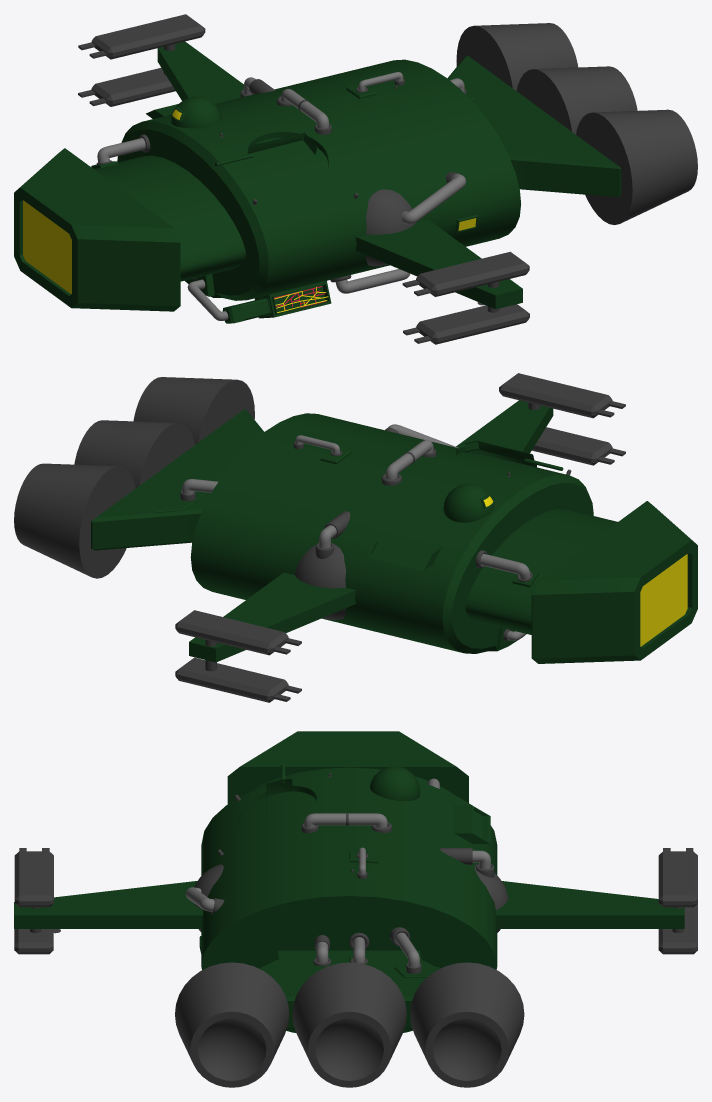
The model's file is NAVE_ESPACIAL.fbx.
3 renders of one model, top to bottom at view 1: azimuth 30°, elevation 25°; view 2: azimuth 150°, elevation 25°; view 3: azimuth 270°, elevation 25°, orthographic.
Parts seen in each view (by area): view 1: CuerpoPrincipal, Motores, Cabina, Canones, Alas, Cilindro.004, Cilindro.005, Cilindro.009, Cilindro.010, Cilindro.011; view 2: CuerpoPrincipal, Motores, Cabina, Canones, Alas, Cilindro.009, Cilindro.010; view 3: CuerpoPrincipal, Motores, Alas, Cabina, Canones, Cilindro.009.
Part boxes in pixels (x1,y1,x2,y2): CuerpoPrincipal: (91, 55, 621, 323); Motores: (366, 23, 697, 266); Cabina: (14, 148, 180, 311); Canones: (78, 14, 529, 344); Alas: (157, 41, 522, 309); Cilindro.004: (401, 174, 466, 224); Cilindro.005: (335, 269, 410, 293); Cilindro.009: (281, 89, 329, 128); Cilindro.010: (97, 138, 145, 163); Cilindro.011: (187, 279, 228, 320); CuerpoPrincipal: (91, 409, 617, 653); Motores: (14, 377, 345, 619); Cabina: (531, 501, 697, 663); Canones: (175, 373, 625, 702); Alas: (189, 400, 553, 662); Cilindro.009: (385, 440, 433, 479); Cilindro.010: (480, 553, 530, 579); CuerpoPrincipal: (199, 764, 497, 1032); Motores: (175, 864, 524, 1087); Alas: (14, 881, 684, 928); Cabina: (227, 731, 468, 803); Canones: (14, 848, 697, 954); Cilindro.009: (304, 813, 387, 827).
Bounding box in the file's own units: 1566 × 447 × 1633.
